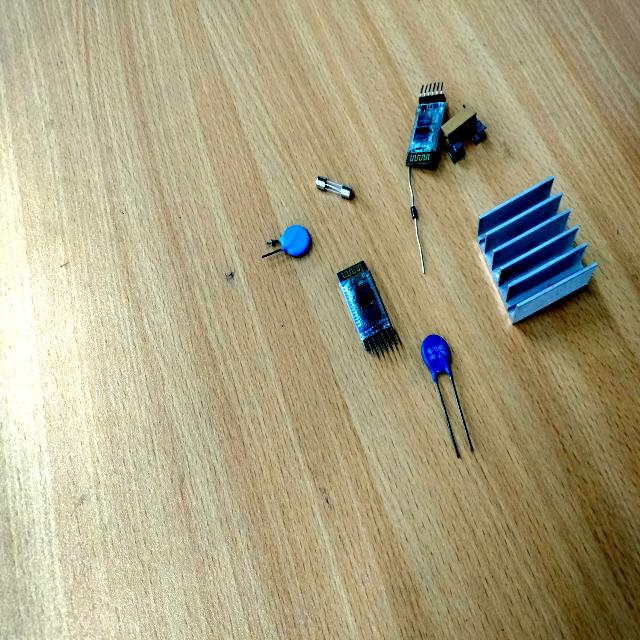capacitor: (421, 335, 452, 376), (276, 226, 312, 258)
